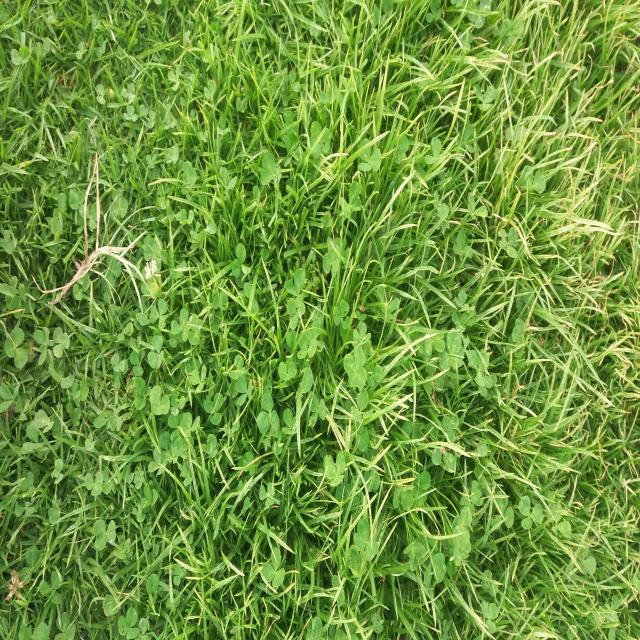Four Leaf Clover: (343, 349, 367, 390), (165, 145, 179, 164)
